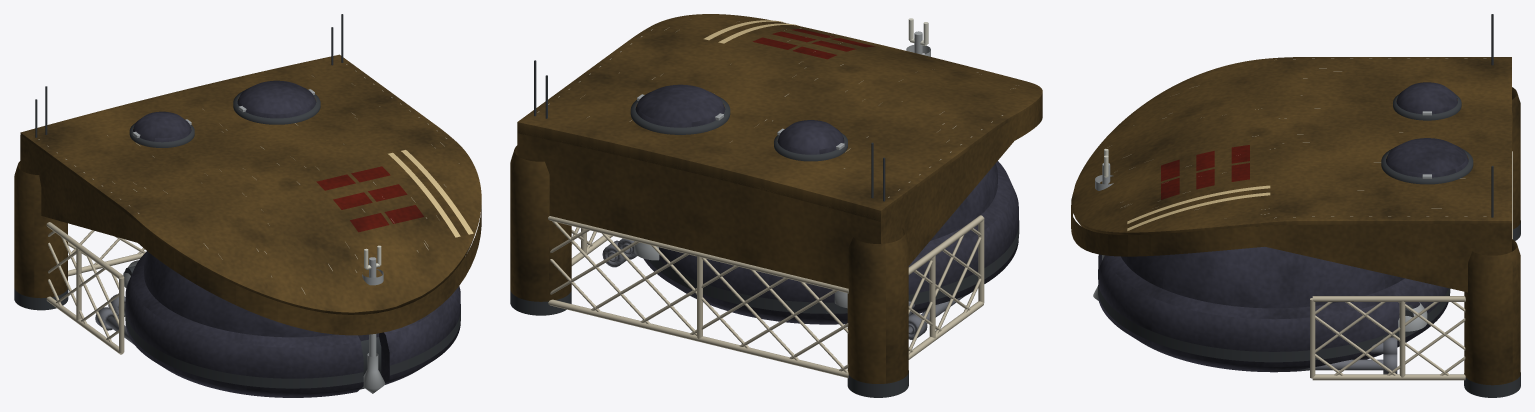
3 views of the same model, side by side, from view 1: azimuth 30°, elevation 25°; view 2: azimuth 150°, elevation 25°; view 3: azimuth 270°, elevation 25° (orthographic). The views are drawn at different scales.
Visible parts, largest first — view 1: Rounded compound roof and nose, Exposed grey violet drilling drum, Rear cylindrical foundation pier, Upper shell edge skirt 42, Rounded internal survey machine bell, Lower drum dark belt, Hatch 1 shallow domed lid, Hatch 0 shallow domed lid, Hatch 1 recessed flange, Pier foot wear band, Pale nose roof stripe, Internal precision drill head (+9 smaller); view 2: Rounded compound roof and nose, Upper shell edge skirt 0, Exposed grey violet drilling drum, Rear cylindrical foundation pier, Rear cylindrical foundation pier.001, Upper shell edge skirt 42, Hatch 1 shallow domed lid, Lower drum dark belt, Rear open bracing frame, Hatch 0 shallow domed lid, Rear open bracing frame.001, Rounded internal survey machine bell (+12 smaller); view 3: Rounded compound roof and nose, Exposed grey violet drilling drum, Rounded internal survey machine bell, Upper shell edge skirt 1, Rear cylindrical foundation pier.001, Lower drum dark belt, Hatch 1 shallow domed lid, Hatch 0 shallow domed lid, Rear cylindrical foundation pier, Side open bracing 1 frame, Side open bracing 1 frame.001, Hatch 1 recessed flange (+7 smaller).
Boxes of the visible parts, x1,y1,x2,y2 form: Rounded compound roof and nose: (20,54,481,314); Exposed grey violet drilling drum: (125,251,460,397); Rear cylindrical foundation pier: (14,161,67,298); Upper shell edge skirt 42: (20,135,137,242); Rounded internal survey machine bell: (144,252,378,341); Lower drum dark belt: (125,304,460,388); Hatch 1 shallow domed lid: (237,80,316,118); Hatch 0 shallow domed lid: (133,111,191,142); Hatch 1 recessed flange: (233,90,320,124); Pier foot wear band: (14,288,68,310); Pale nose roof stripe: (388,152,460,237); Internal precision drill head: (363,353,385,393); Rounded compound roof and nose: (517,14,1042,221); Upper shell edge skirt 0: (517,125,880,288); Exposed grey violet drilling drum: (643,161,1018,324); Rear cylindrical foundation pier: (847,228,908,383); Rear cylindrical foundation pier.001: (510,145,571,301); Upper shell edge skirt 42: (881,118,1014,265); Hatch 1 shallow domed lid: (635,84,725,127); Lower drum dark belt: (648,220,1019,313); Rear open bracing frame: (548,299,848,377); Hatch 0 shallow domed lid: (777,120,844,154); Rear open bracing frame.001: (548,216,848,293); Rounded internal survey machine bell: (930,163,997,240); Rounded compound roof and nose: (1071,57,1511,234); Exposed grey violet drilling drum: (1098,254,1450,372); Rounded internal survey machine bell: (1121,246,1404,308); Upper shell edge skirt 1: (1265,223,1511,292); Rear cylindrical foundation pier.001: (1464,239,1520,385); Lower drum dark belt: (1098,269,1450,362); Hatch 1 shallow domed lid: (1386,138,1468,177); Hatch 0 shallow domed lid: (1396,82,1457,114); Rear cylindrical foundation pier: (1512,87,1520,229); Side open bracing 1 frame: (1312,374,1465,380); Side open bracing 1 frame.001: (1312,296,1465,301); Hatch 1 recessed flange: (1381,148,1473,184).
Size of the model in its own units: 2.36 by 1.39 by 2.55.
10 materials, 3 textured.
